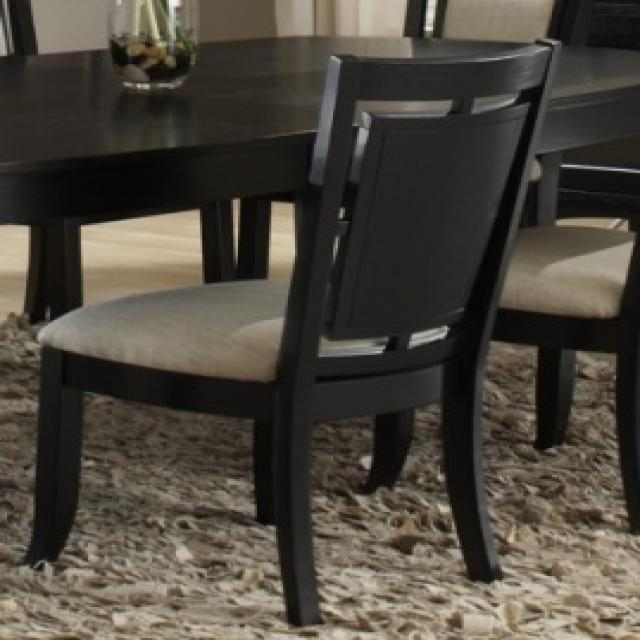Chair: (11, 29, 569, 625)
